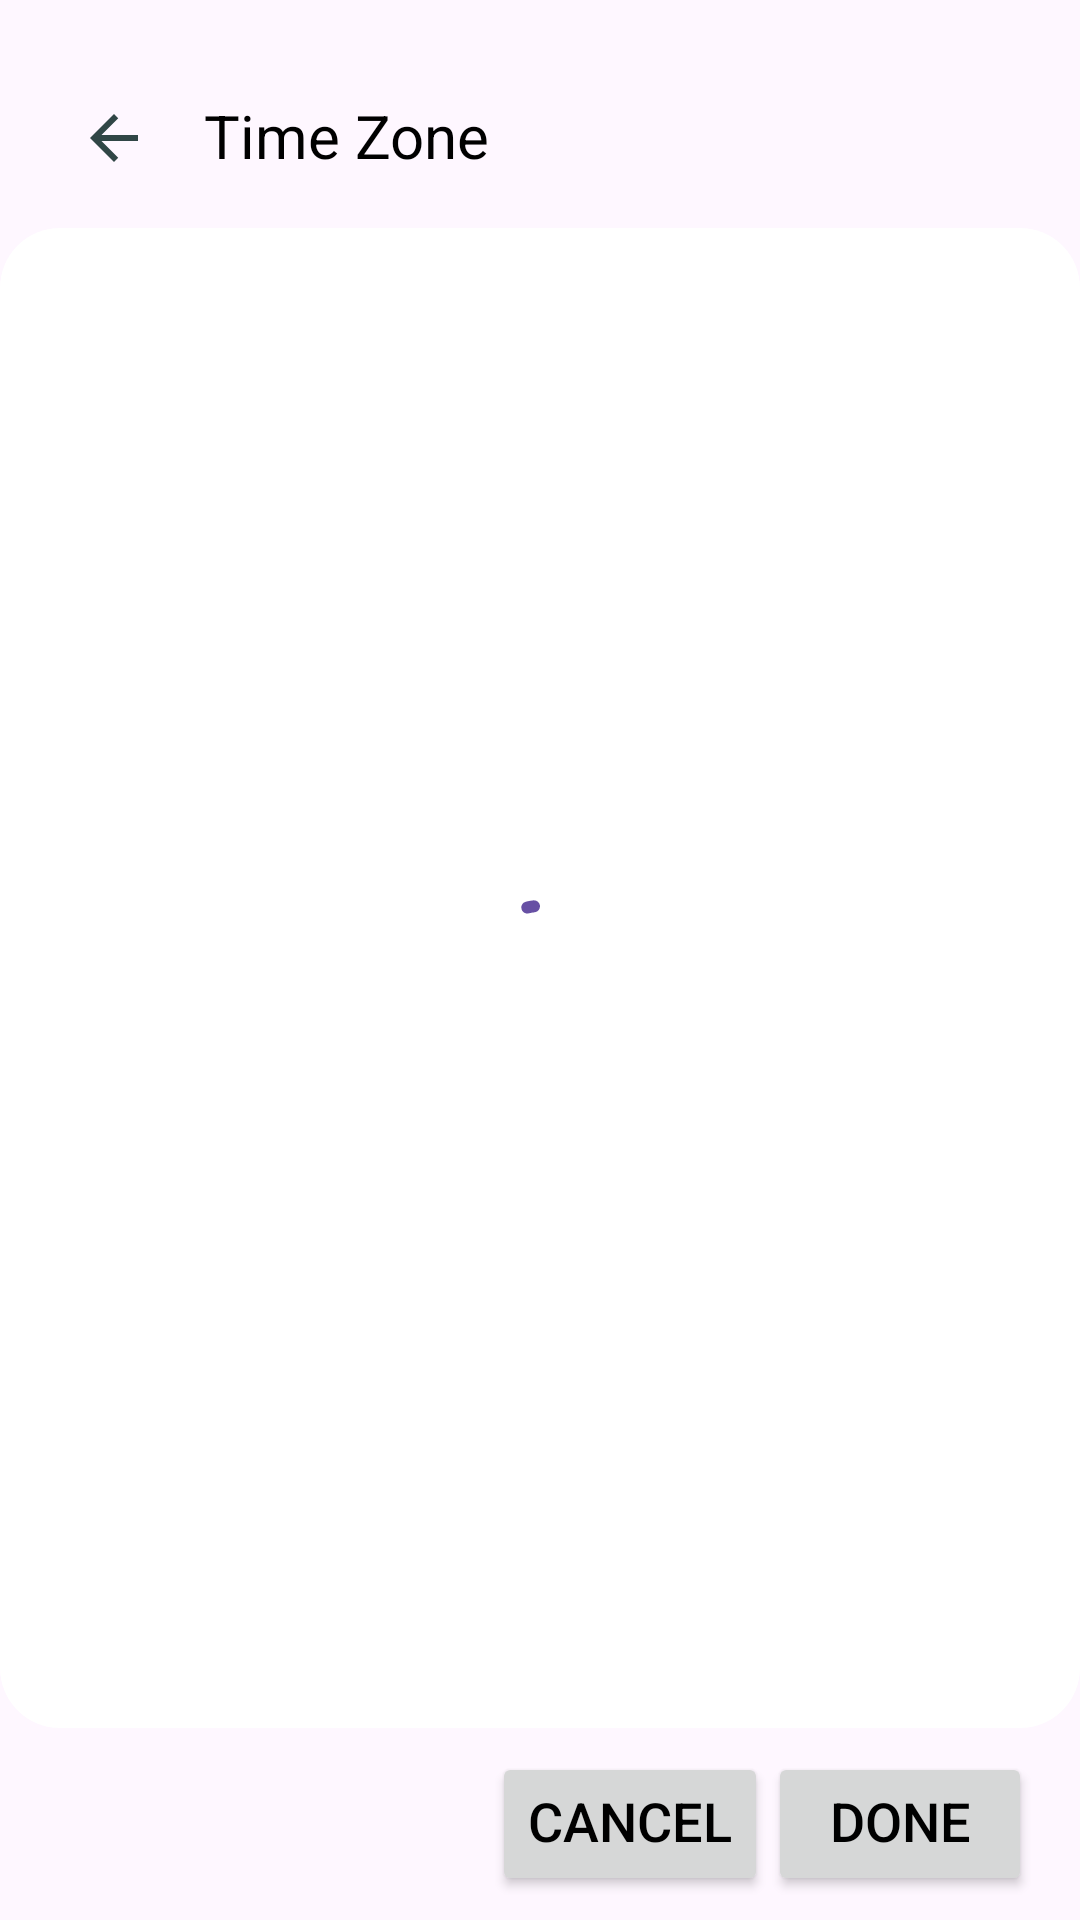

Icon bounding boxes for this 1080×1920 phone screenshot, format (x1, y1, x2, y2):
back arrow: (90, 114, 138, 162)
